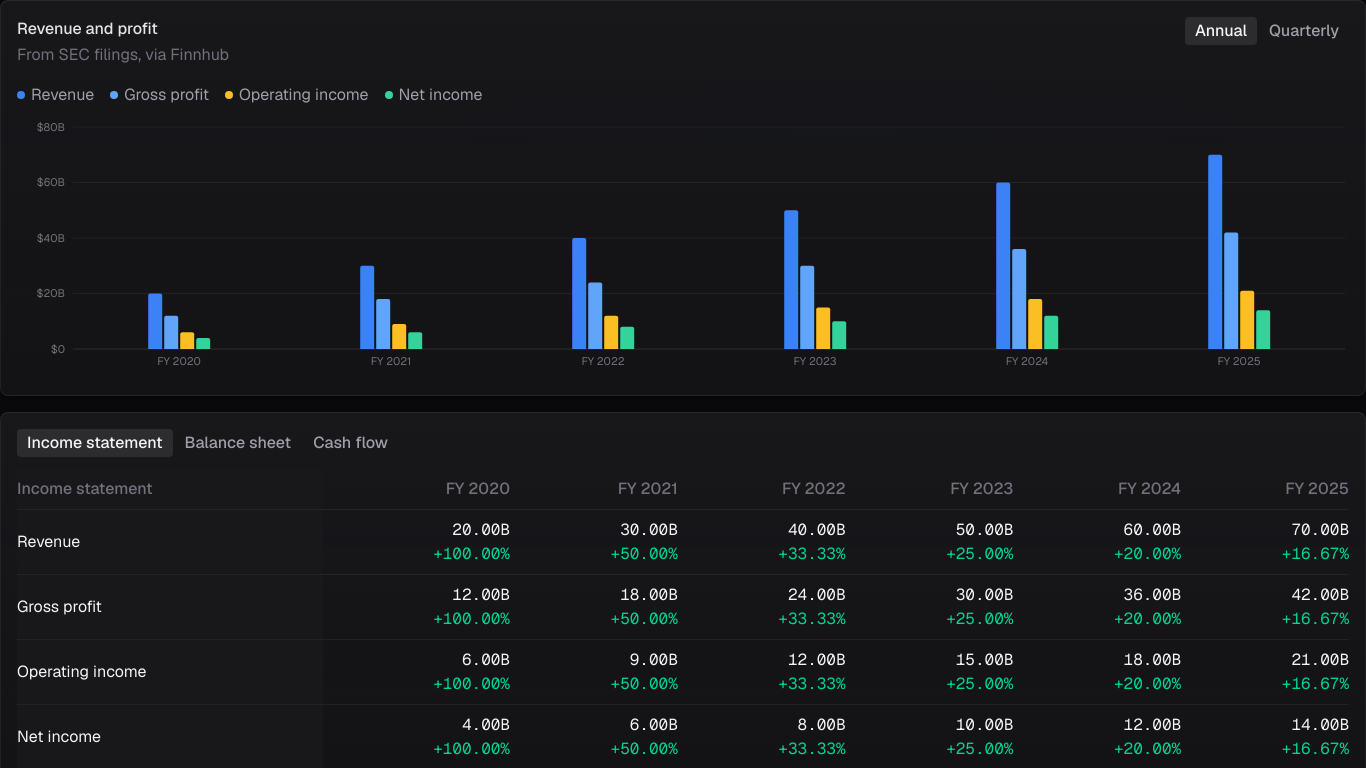
Test: FinancialsTab › switches to the balance sheet and the cash flow statement
This screenshot has width=1366, height=768.
Step 1. Click the button "Balance sheet" → (238, 443), box [175,429,301,457]
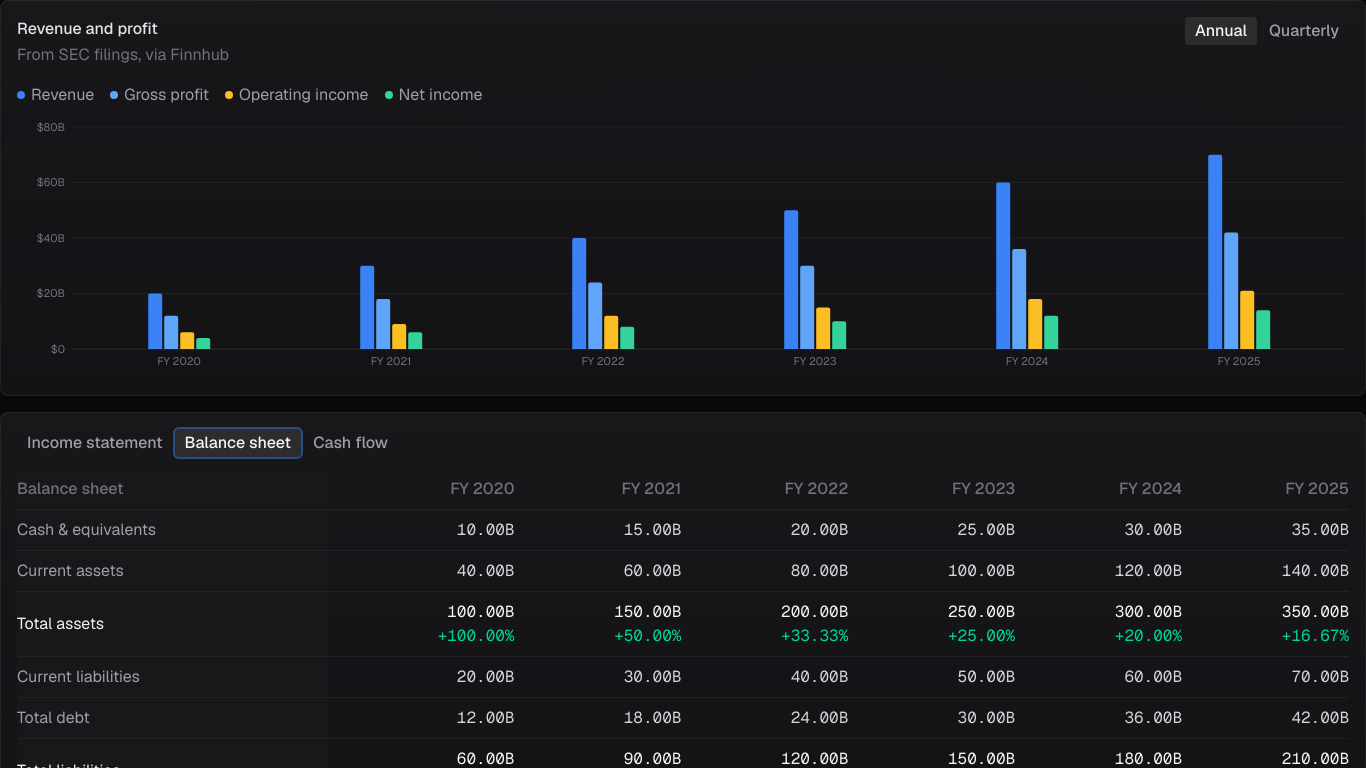
Result: the column heading "Total assets" is shown at [17,592,328,656]
Step 2. Click the button "Cash flow" → (351, 443), box [303,429,398,457]
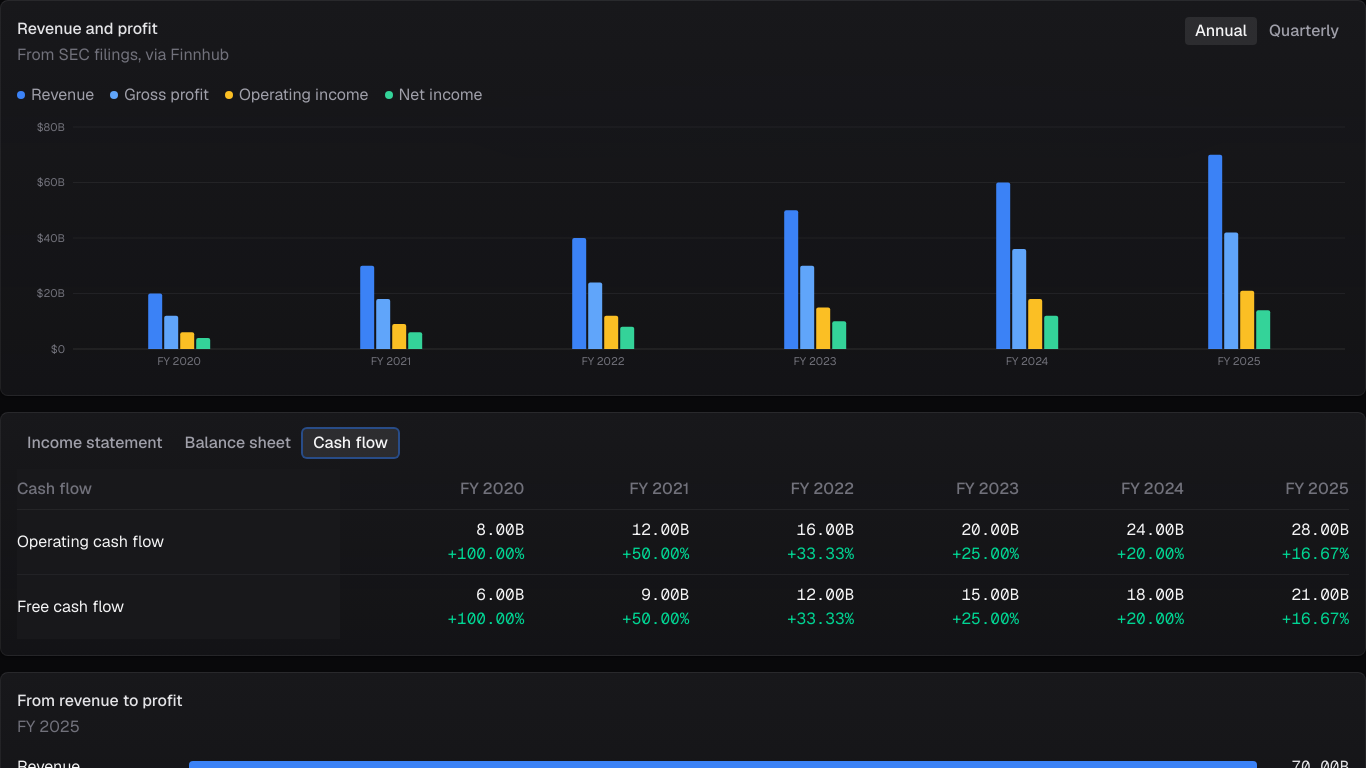
Result: the column heading "Operating cash flow" is shown at [17,510,340,574]
